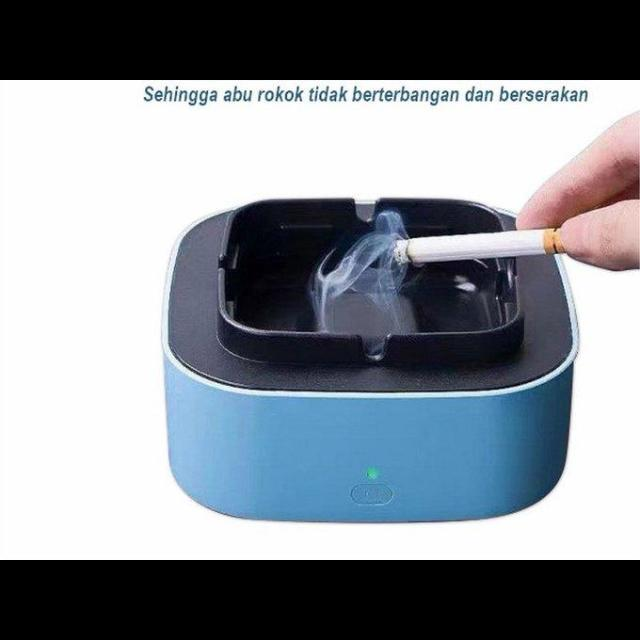rokok: (390, 222, 570, 274)
